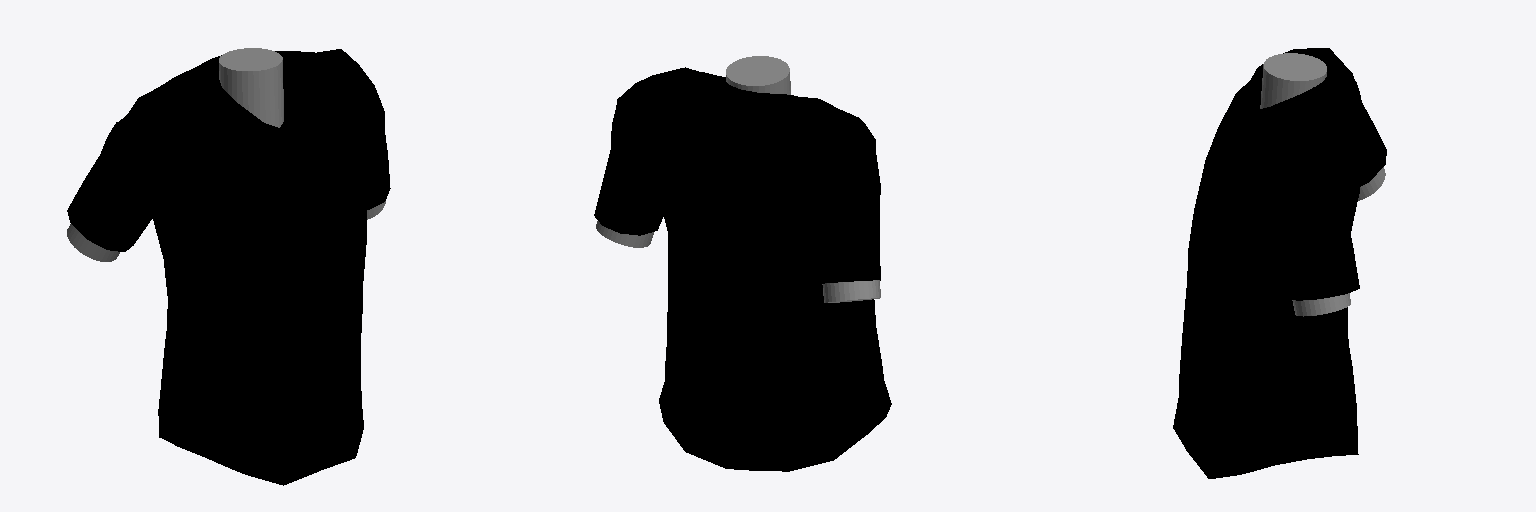
File: maptest.obj
The picture shows the model from 3 angles: view 1: azimuth 30°, elevation 25°; view 2: azimuth 150°, elevation 25°; view 3: azimuth 270°, elevation 25°; orthographic projection.
Parts seen in each view (by area): view 1: skpD5CA1 Model male01_mes, group3_gr0 skpD5CA1 Model, skpD5CA1 Model group3_gro; view 2: skpD5CA1 Model male01_mes, group3_gr0 skpD5CA1 Model, skpD5CA1 Model group3_gro, skpD5CA1 Model group3_gr1; view 3: skpD5CA1 Model male01_mes, group3_gr0 skpD5CA1 Model, skpD5CA1 Model group3_gr1.
Part boxes in pixels (bbox=[...]): skpD5CA1 Model male01_mes: bbox=[67, 49, 390, 485]; group3_gr0 skpD5CA1 Model: bbox=[219, 48, 283, 127]; skpD5CA1 Model group3_gro: bbox=[67, 224, 119, 261]; skpD5CA1 Model male01_mes: bbox=[594, 67, 891, 471]; group3_gr0 skpD5CA1 Model: bbox=[726, 56, 790, 94]; skpD5CA1 Model group3_gro: bbox=[822, 280, 880, 302]; skpD5CA1 Model group3_gr1: bbox=[596, 221, 653, 247]; skpD5CA1 Model male01_mes: bbox=[1173, 48, 1386, 478]; group3_gr0 skpD5CA1 Model: bbox=[1260, 53, 1326, 108]; skpD5CA1 Model group3_gr1: bbox=[1292, 293, 1350, 316].
Size of the model in its own units: 17.64 by 21.91 by 11.07.